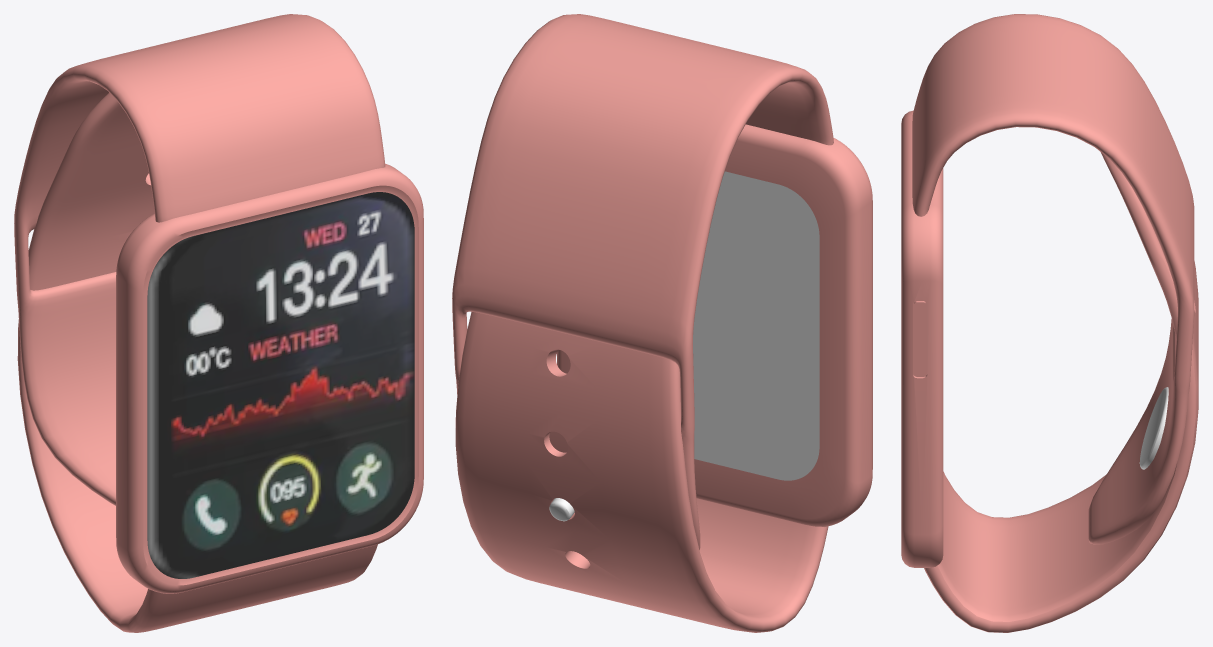
Rendered from smart_watch.glb.
The picture shows the model from 3 angles, left to right: view 1: azimuth 30°, elevation 25°; view 2: azimuth 150°, elevation 25°; view 3: azimuth 270°, elevation 25°; orthographic projection. The views are drawn at different scales.
Visible parts, largest first — view 1: Plane_0, Plane.001_1, Plane.002_2; view 2: Plane.001_1, Plane.002_2, Plane_0; view 3: Plane.001_1, Plane.002_2, Plane_0, Circle_3.
Part boxes in pixels (box(x1,y1,x2,y2)): Plane_0: box(116, 163, 423, 593); Plane.001_1: box(14, 14, 385, 505); Plane.002_2: box(17, 93, 377, 632); Plane.001_1: box(452, 14, 833, 549); Plane.002_2: box(455, 312, 828, 632); Plane_0: box(557, 124, 872, 526); Plane.001_1: box(912, 14, 1194, 544); Plane.002_2: box(924, 152, 1198, 632); Plane_0: box(901, 110, 943, 567); Circle_3: box(1139, 387, 1168, 469).
Size of the model in its own units: 2.75 by 4.85 by 2.52.
4 materials, 1 textured.
